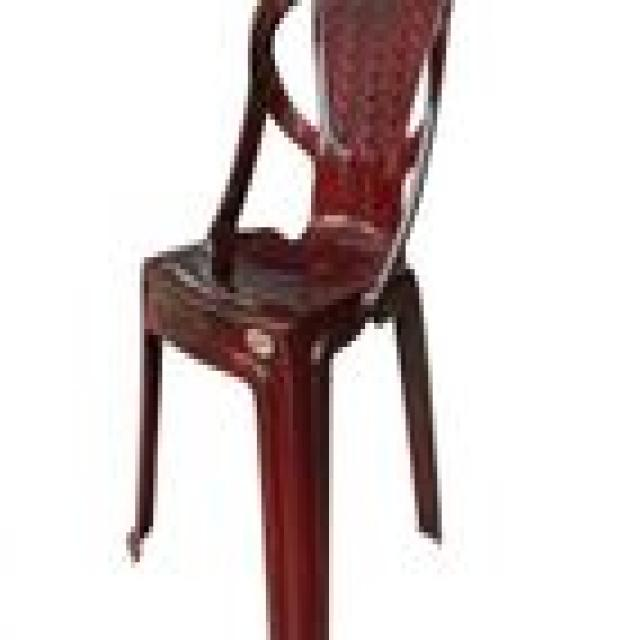others: (103, 6, 504, 640)
